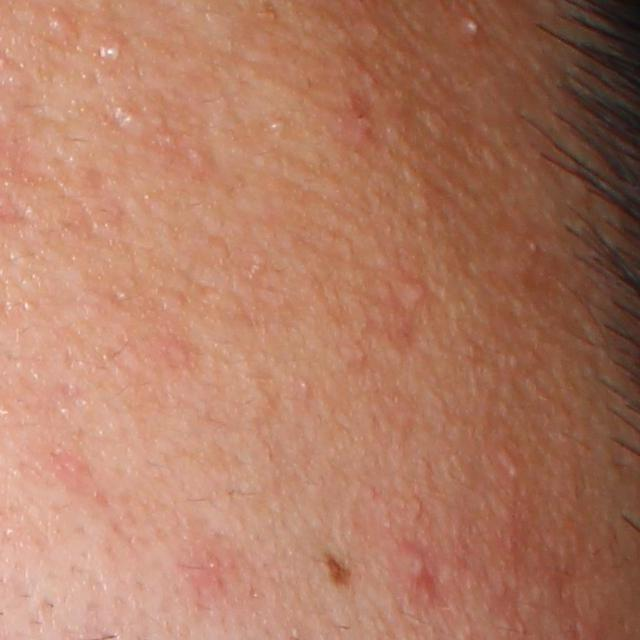comedo: (112, 105, 149, 136), (47, 13, 75, 36), (266, 117, 290, 133)
nevus: (325, 551, 361, 593)
papule: (397, 543, 430, 588)
